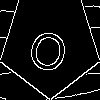O: (25, 19, 74, 75)
